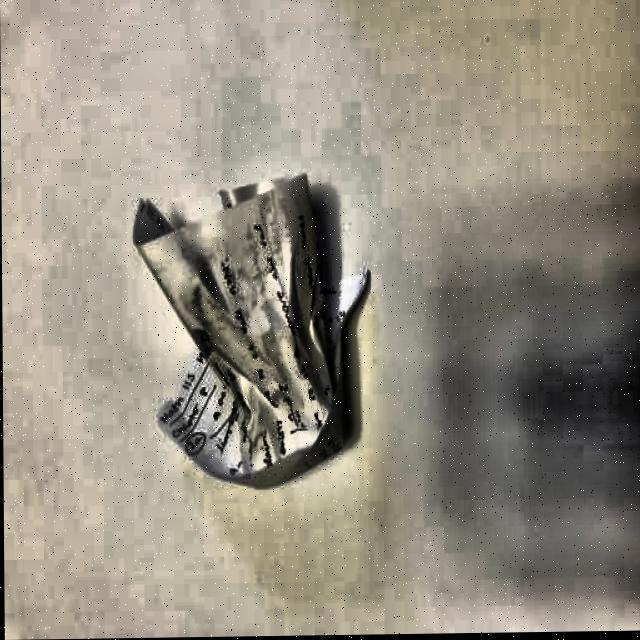paper: (131, 174, 372, 496)
